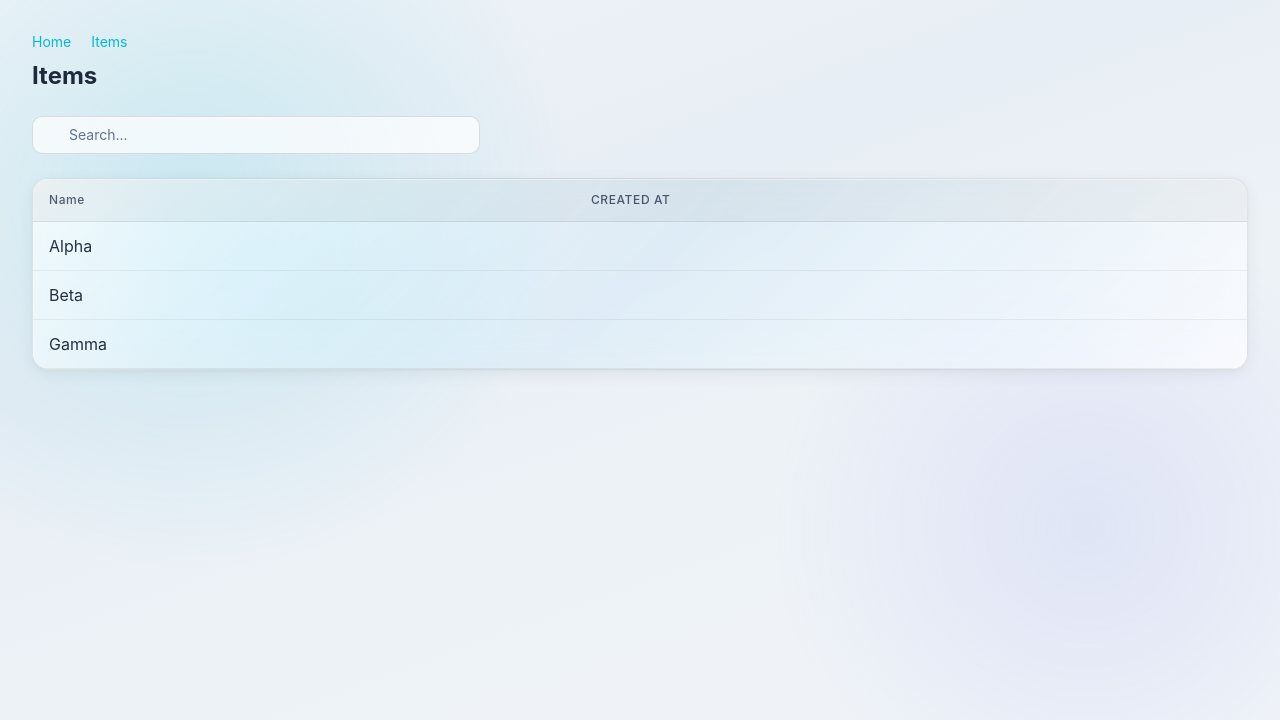
Test case: EntityListPage › shows all items when search query is cleared
This screenshot has width=1280, height=720.
Step 1. Type "alpha" into the field with placeholder "Search..." → point(256, 135), box left=32, top=116, right=480, bottom=154
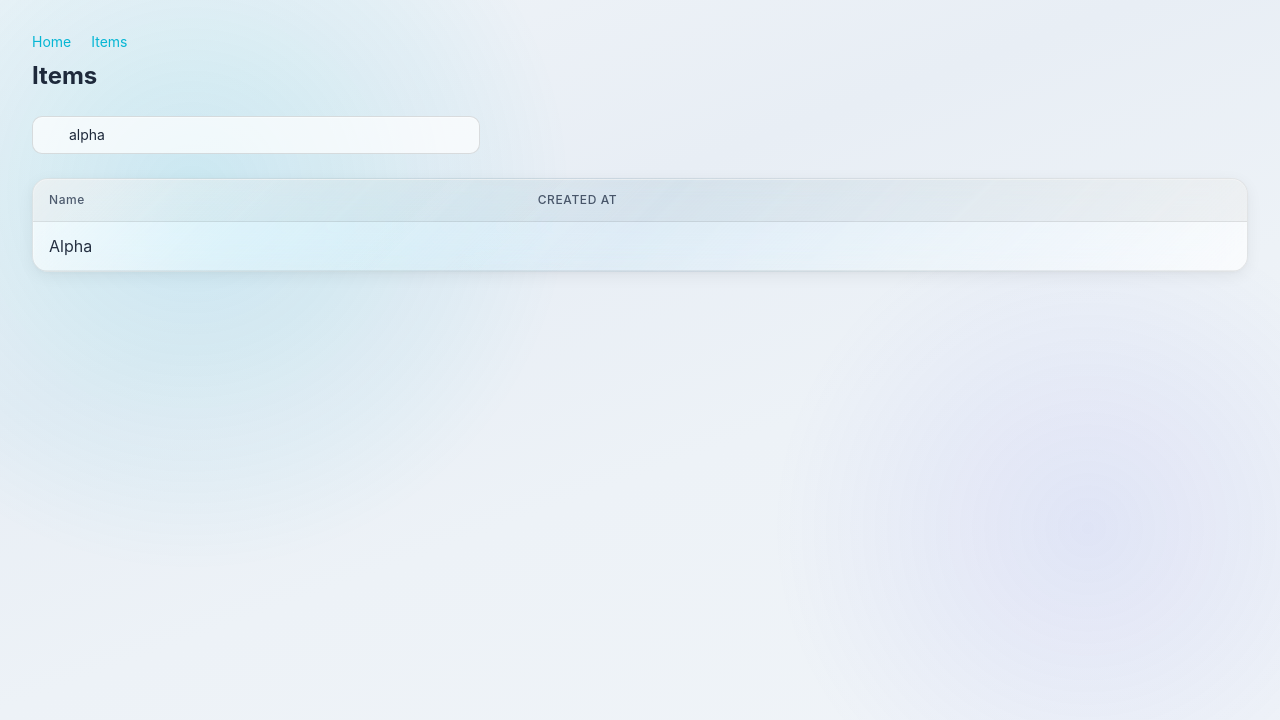
Step 2. Clear the field → point(256, 135), box left=32, top=116, right=480, bottom=154
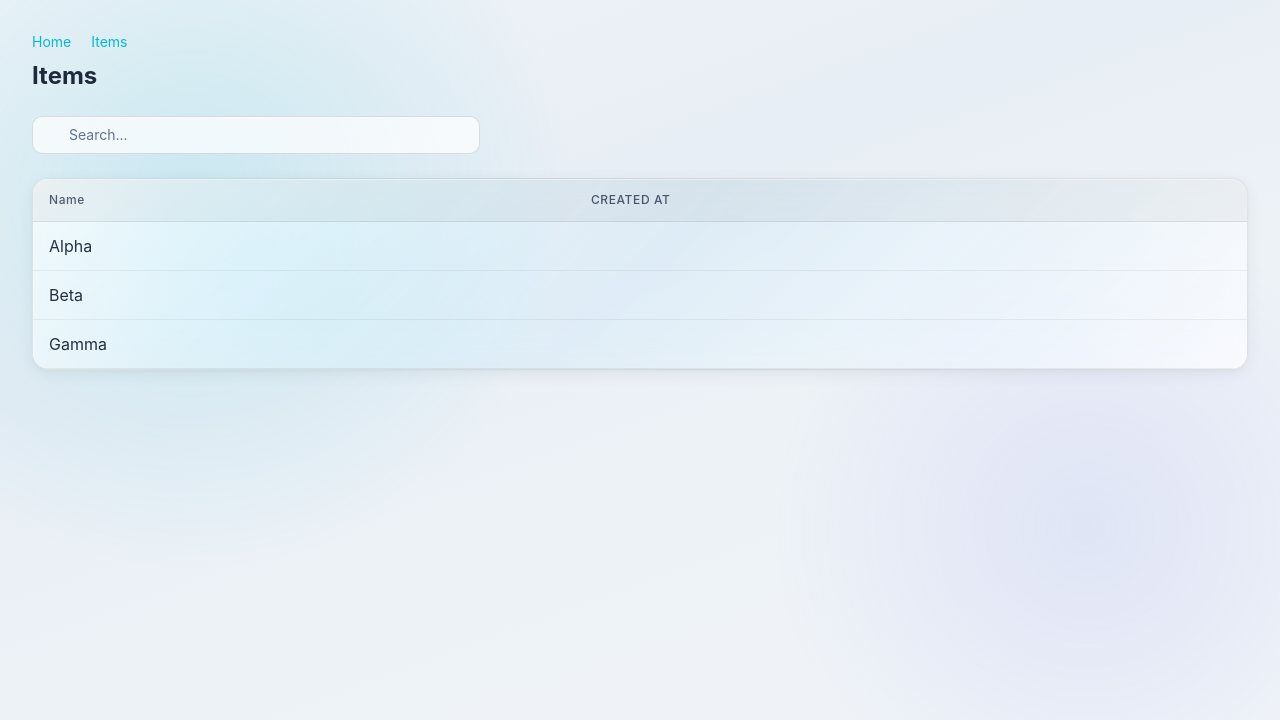
expect the number of cells with test id "desktop-cell" is 3: met, box left=33, top=222, right=575, bottom=270; left=33, top=270, right=575, bottom=320; left=33, top=320, right=575, bottom=368
